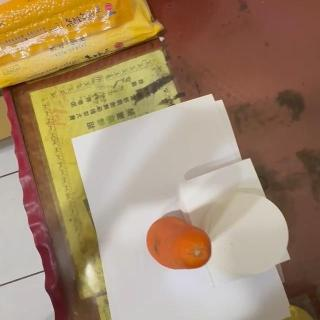carrot: (146, 214, 210, 270)
